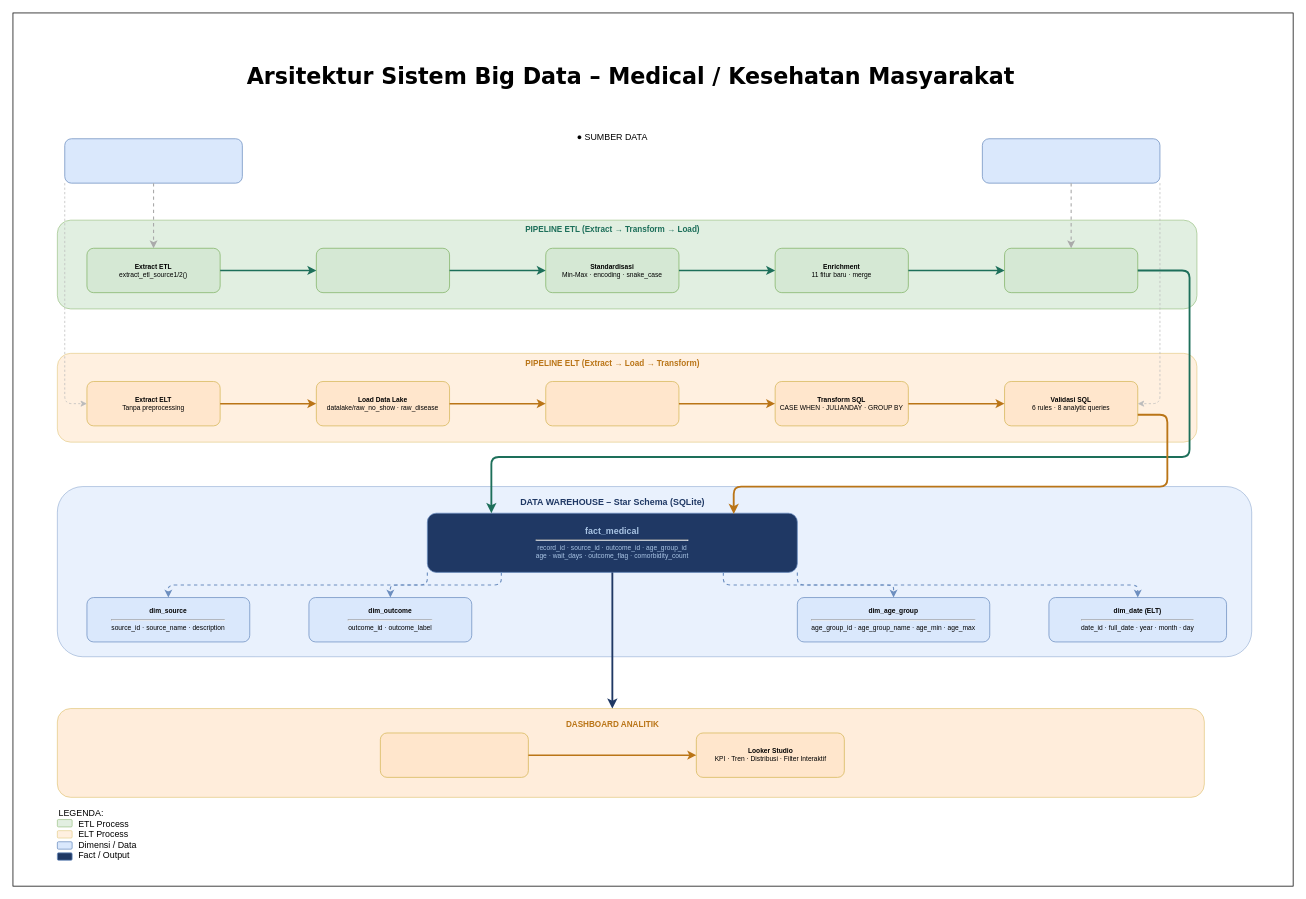
Image size: 1306x899. Some labels were removed from this diagram. The shapes that lost their labels are listed below. From the top down, each one's centre as x and y in pixels, then its label:
At (153,160): "No-Show Appointments 110.527 baris · CSV · Kaggle".
At (1071,160): "Disease Symptoms ~350 baris · CSV · Kaggle".
At (383,270): "Data Cleaning IQR · missing · duplikat".
At (1071,270): "Validasi ETL 6 aturan kualitas data".
At (612,403): "Staging Tables stg_no_show · stg_disease".
At (454,754): "Export CSV export_dashboard_data.py".
